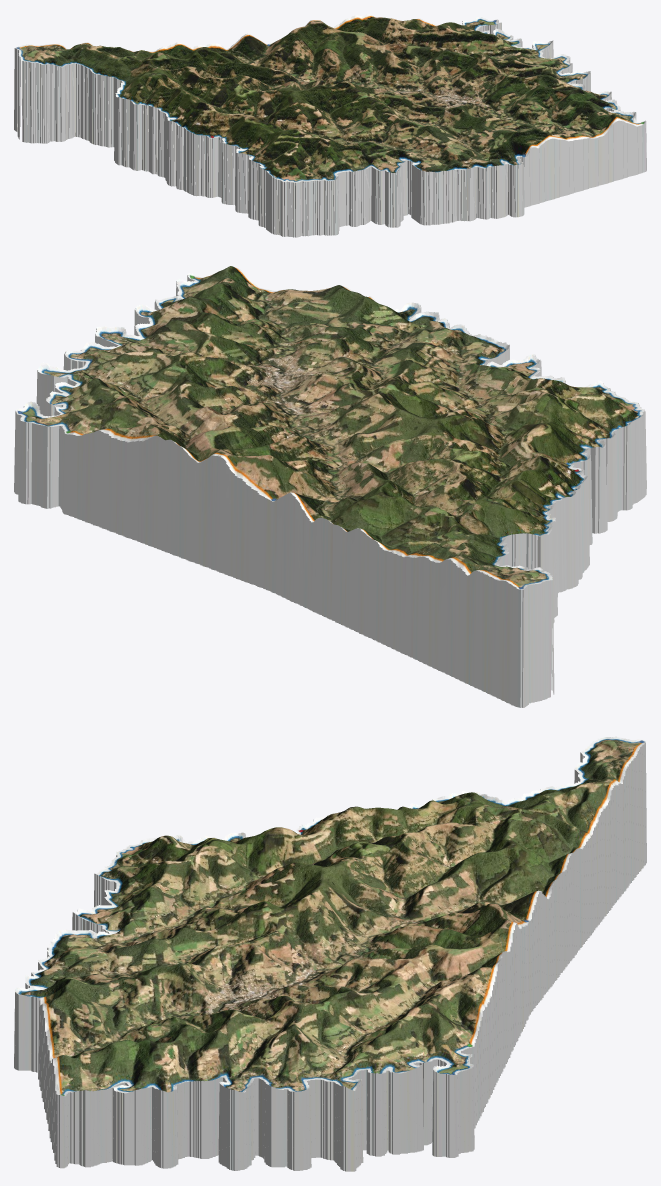
The picture shows the model from 3 angles, top to bottom: view 1: azimuth 30°, elevation 25°; view 2: azimuth 150°, elevation 25°; view 3: azimuth 270°, elevation 25°; orthographic projection. The views are drawn at different scales.
Size of the model in its own units: 1 by 0.1801 by 0.8443.
1 material, 1 textured.
